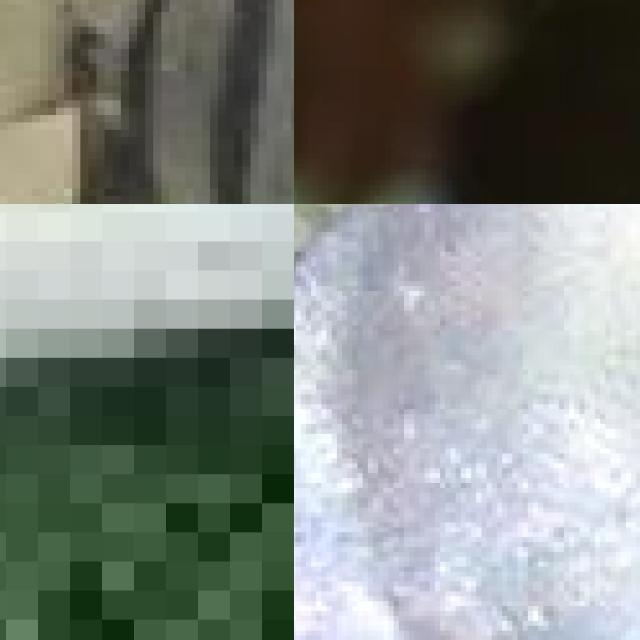fish: (294, 204, 640, 384), (0, 0, 294, 204)
